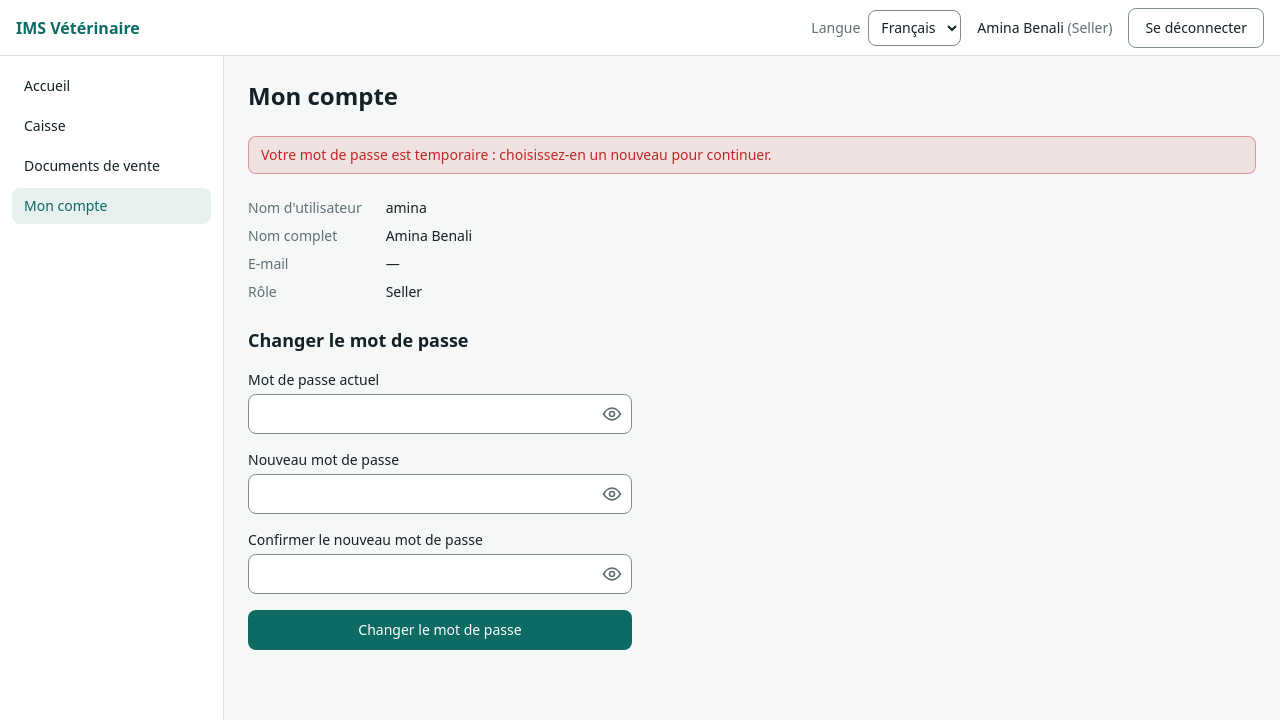
Test case: AccountPage › returns to the dashboard after the forced change
In the password field labelled "Mot de passe actuel": (440, 414) [248,394,632,434], type "k7mq-3xht-9pwd-r2va"
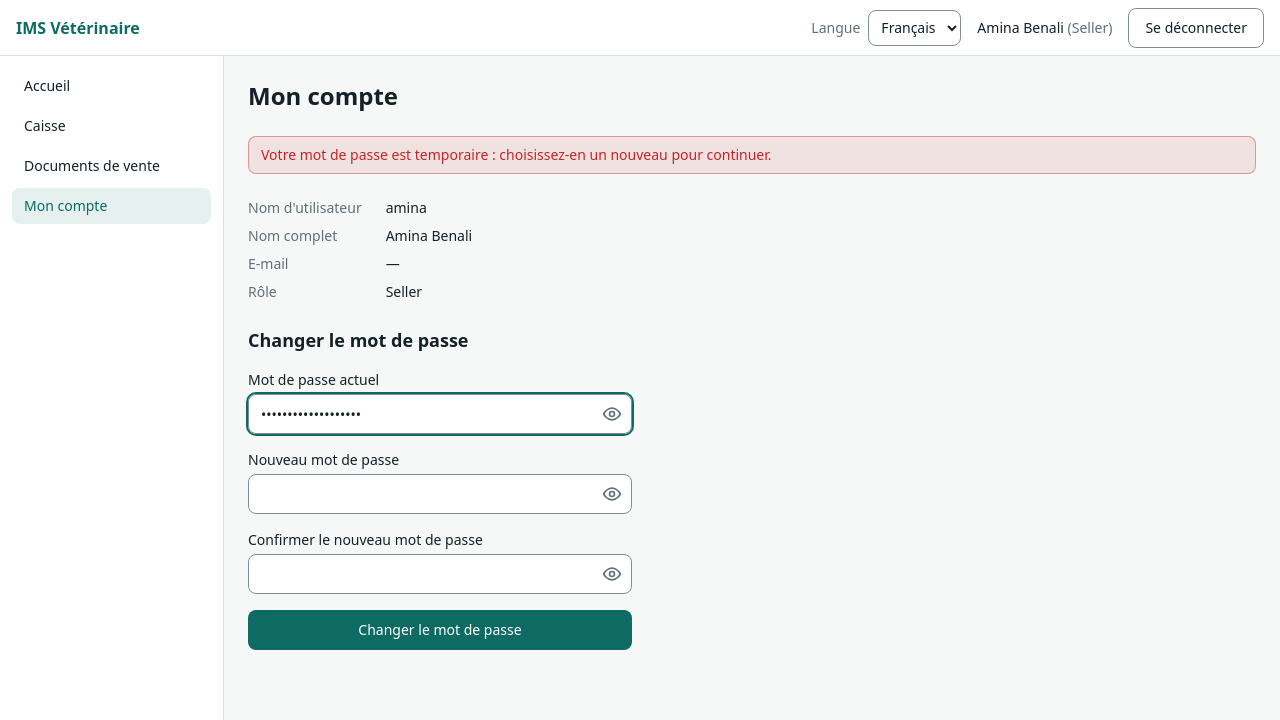
In the password field labelled "Nouveau mot de passe": (440, 494) [248,474,632,514], type "Quiet-harbour-lantern-7"
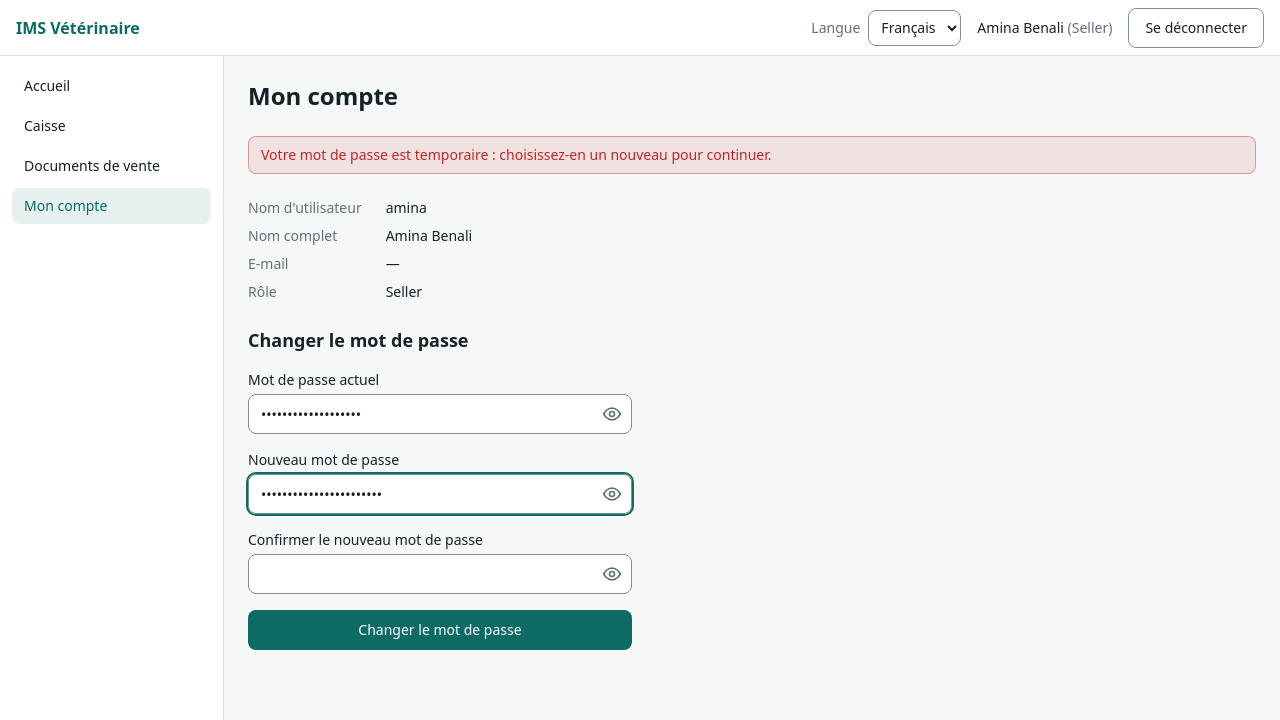
In the password field labelled "Confirmer le nouveau mot de passe": (440, 574) [248,554,632,594], type "Quiet-harbour-lantern-7"
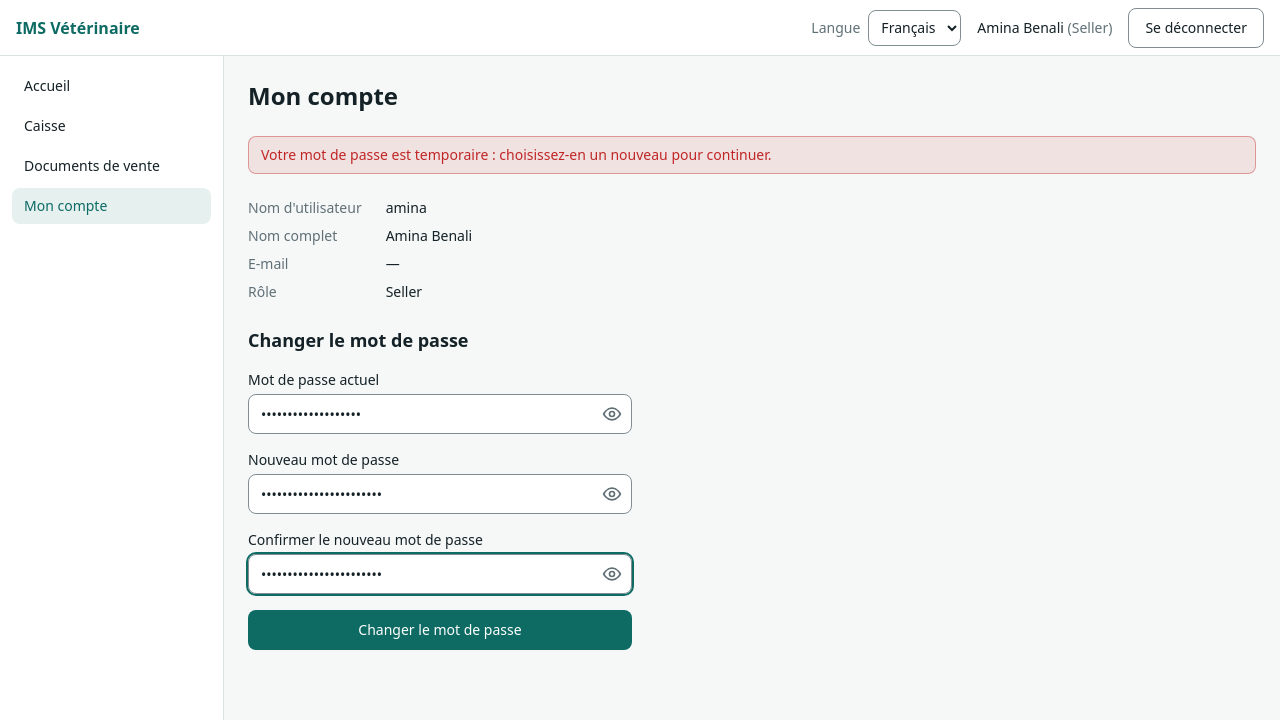
Click the button "Changer le mot de passe": (440, 630) [248,610,632,650]
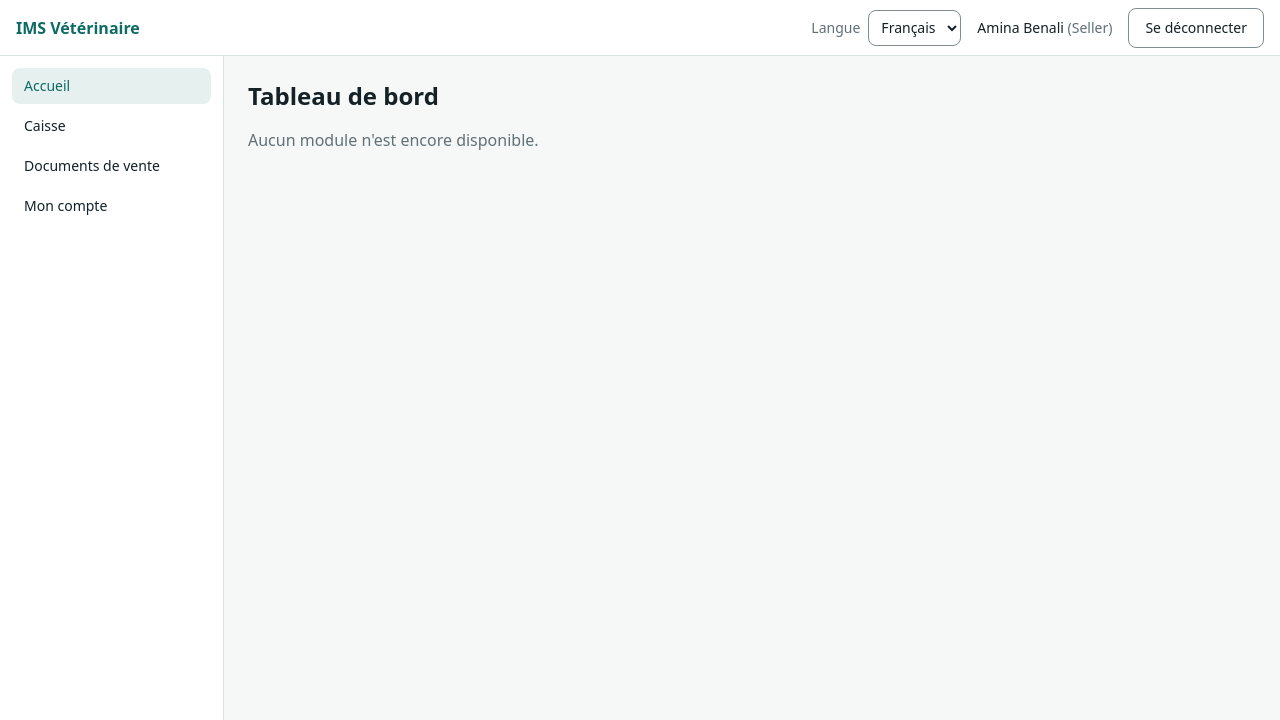
Expected: the heading "Tableau de bord" is shown, [248,79,439,112]
